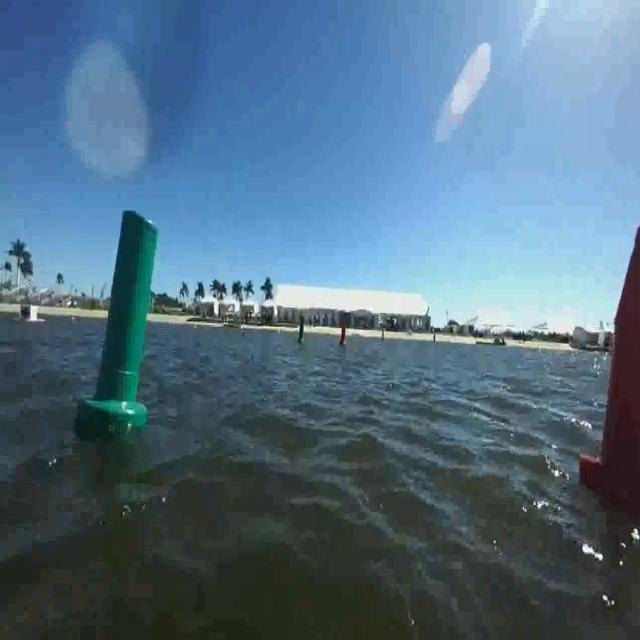green-column-buoy: (80, 216, 161, 436), (295, 312, 307, 345)
red-column-buoy: (577, 166, 640, 500), (340, 321, 350, 348)
